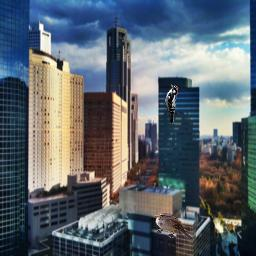Sparrow: (154, 212, 194, 242)
Woodpecker: (165, 84, 178, 124)
